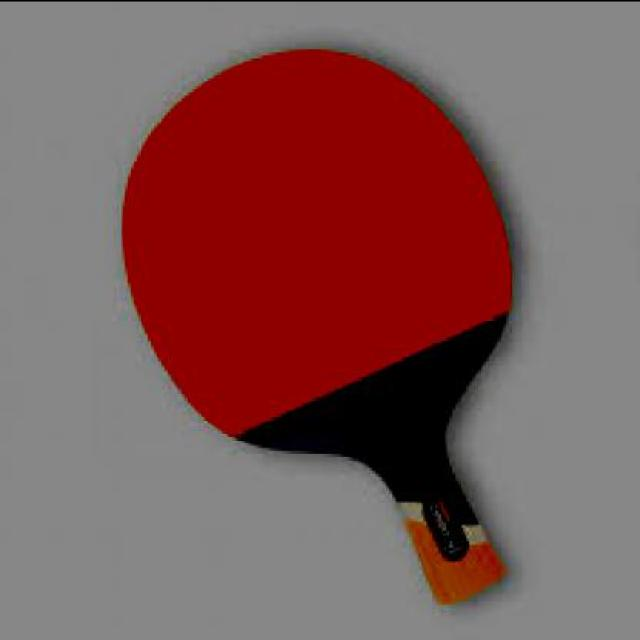table_tennis_racket: (120, 49, 514, 606)
